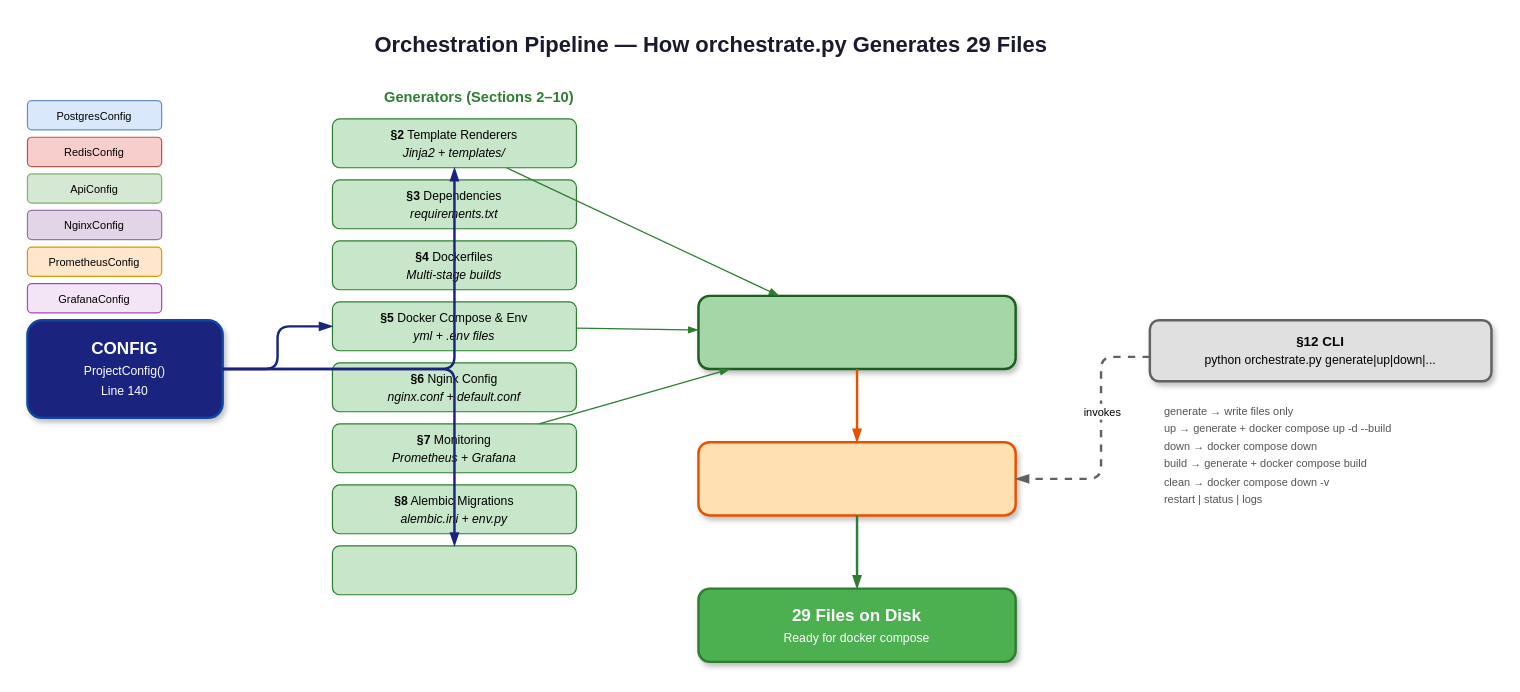
Image size: 1520x692. Some labels were removed from this diagram. Each missing label, with the centre of its shape:
"§10 Build Tools Makefile, .gitignore, etc." belongs at (x=453, y=570).
"§11 get_file_manifest() 29 (path, content, description) tuples" belongs at (x=858, y=333).
"§11 write_generated_files() Create dirs + write content to disk" belongs at (x=858, y=480).
